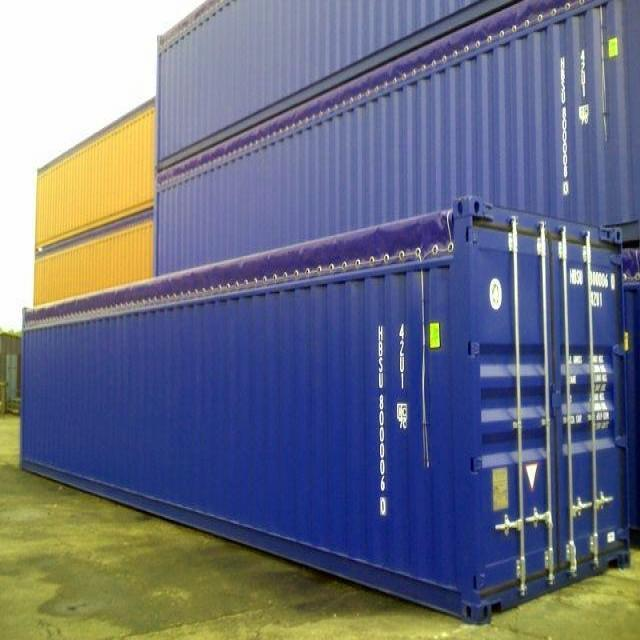ISO: (588, 290, 606, 312)
container_number: (566, 266, 619, 290)
